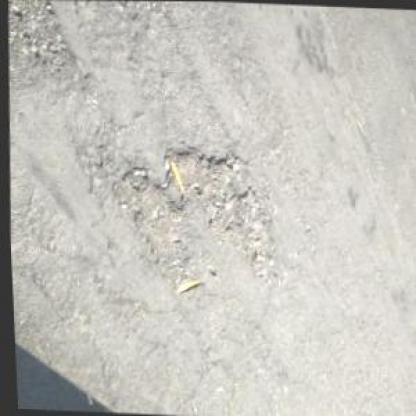pothole: (110, 138, 278, 296)
